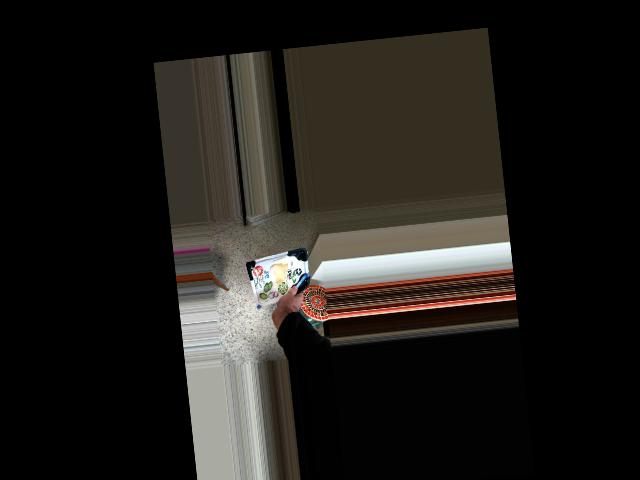cheese: (248, 264, 302, 318)
